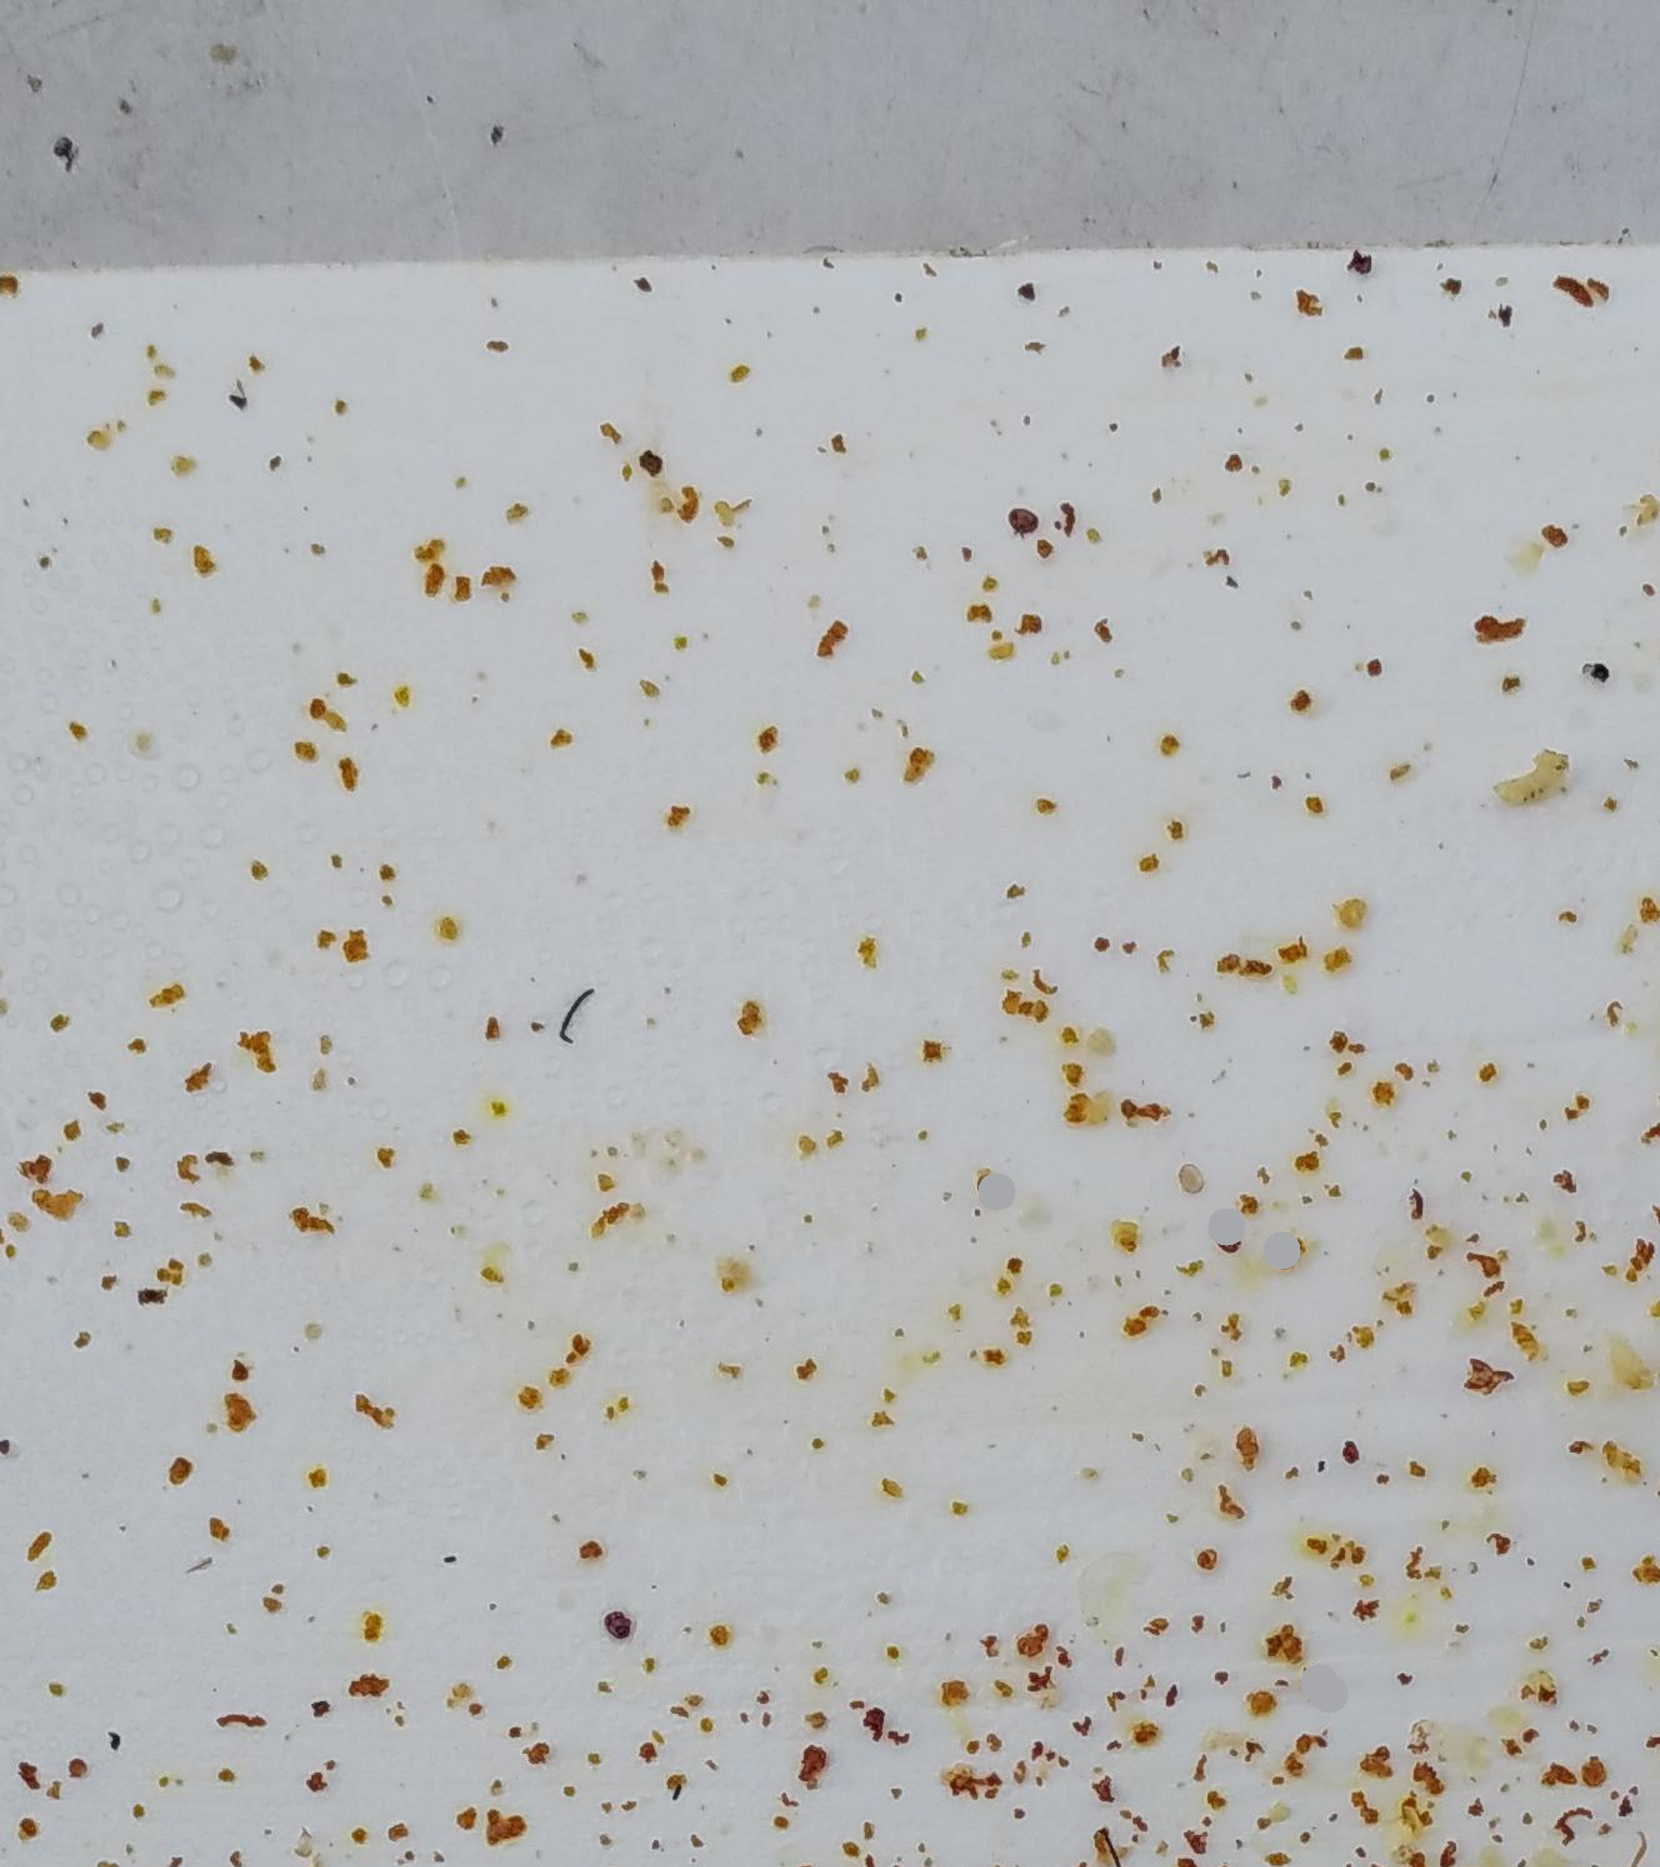Varroa: (1014, 503, 1038, 545), (1223, 1224, 1247, 1260), (604, 1606, 633, 1635)
